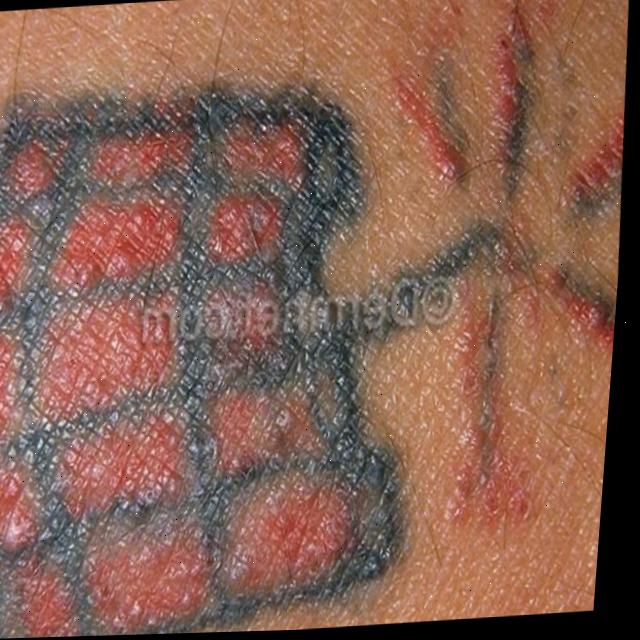Eczema: (0, 16, 637, 619)
